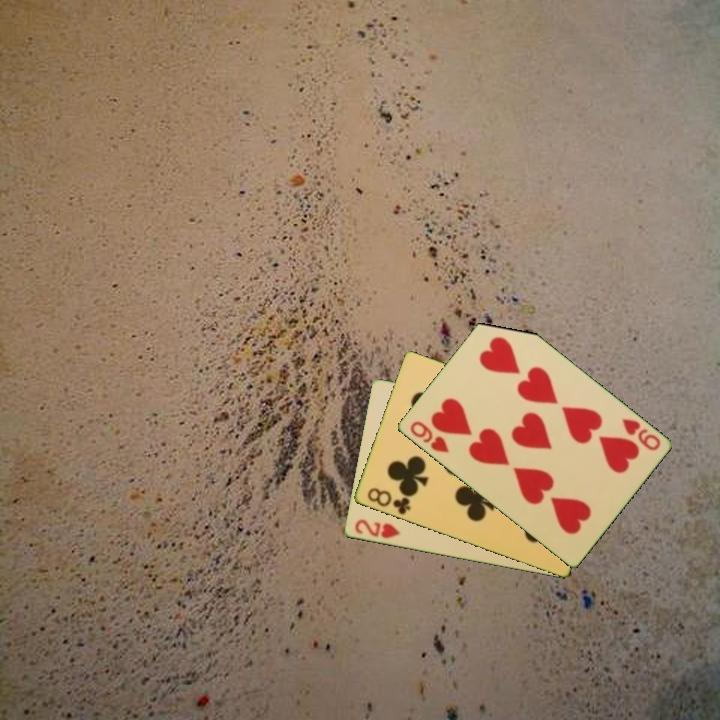2h: (351, 516, 402, 542)
8c: (363, 484, 413, 518)
9h: (406, 417, 452, 456), (618, 415, 663, 454)
